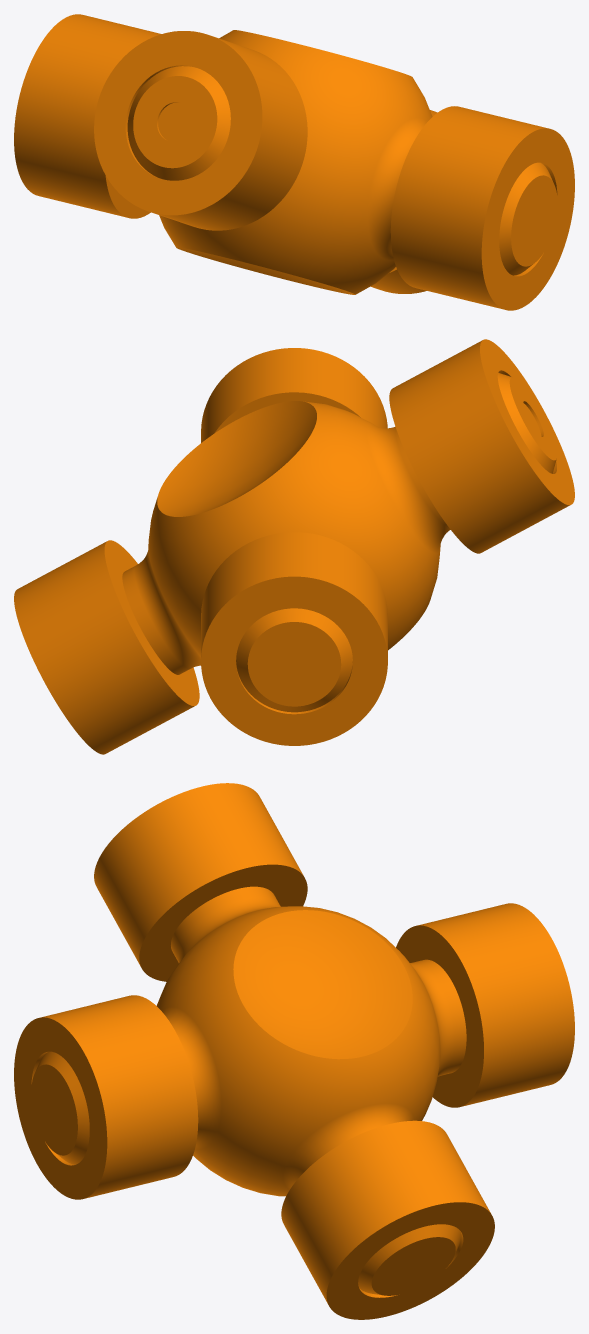
File: croisillion_haut1.dae
3 renders of one model, top to bottom at view 1: azimuth 30°, elevation 25°; view 2: azimuth 150°, elevation 25°; view 3: azimuth 270°, elevation 25°, orthographic.
Parts seen in each view (by area): view 1: C0001_0001-2_Croisillon_3; view 2: C0001_0001-2_Croisillon_3; view 3: C0001_0001-2_Croisillon_3.
Part boxes in pixels (bbox=[...]): C0001_0001-2_Croisillon_3: bbox=[14, 14, 574, 310]; C0001_0001-2_Croisillon_3: bbox=[14, 339, 574, 754]; C0001_0001-2_Croisillon_3: bbox=[14, 783, 574, 1319].
Bounding box in the file's own units: 0.0904 × 0.0962 × 0.0746.
